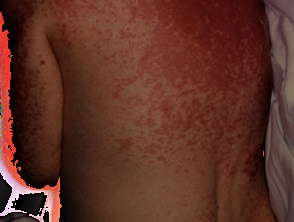SJS-TEN: (5, 0, 286, 222)
